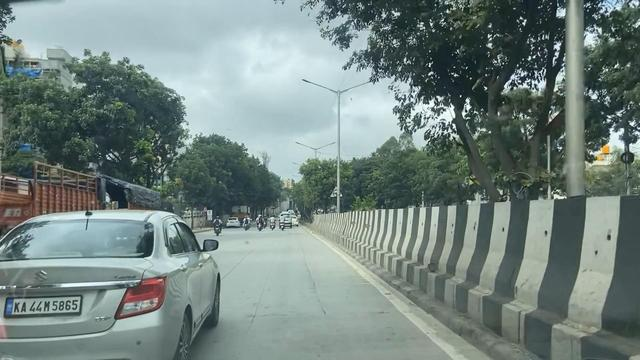LMV: (0, 207, 227, 360)
